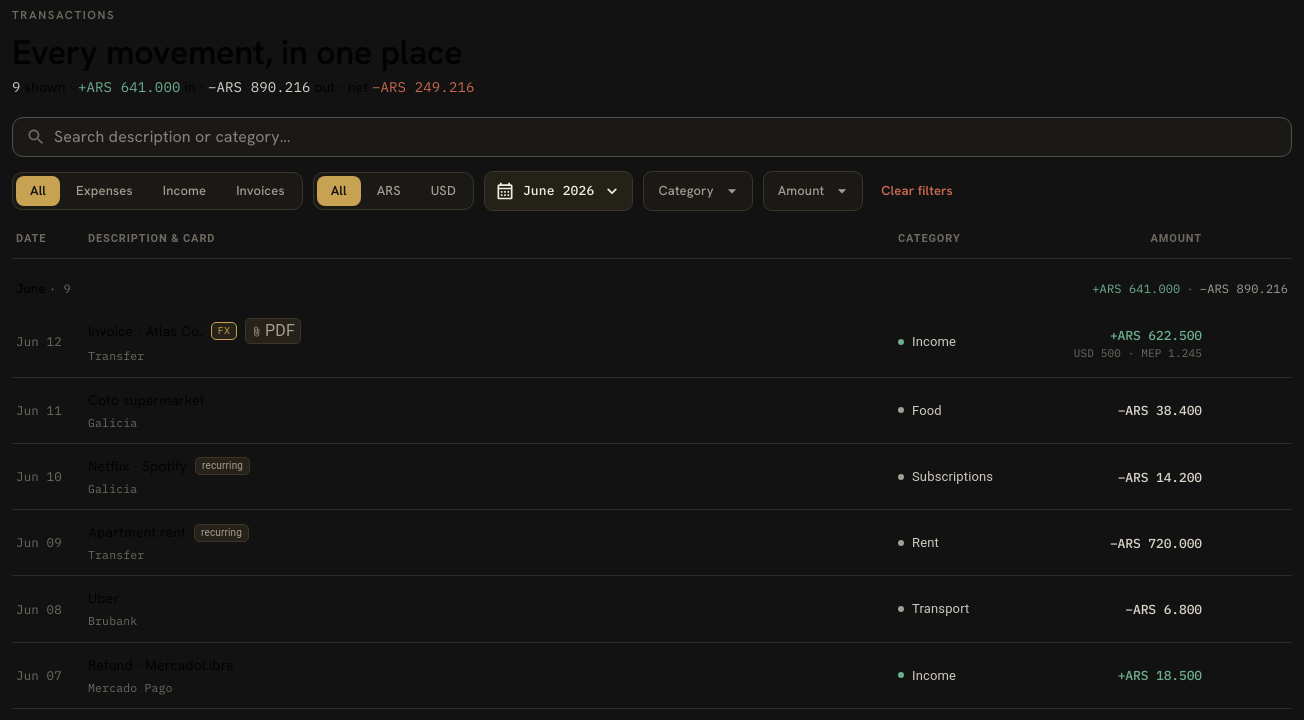
Scenario: TransactionsPage filtering › a search with no matches shows the empty state and clears the rows
The width and height of the screenshot is (1304, 720).
Type "zzzznomatch" into the search field at (673, 137), box [54,117,1292,157]
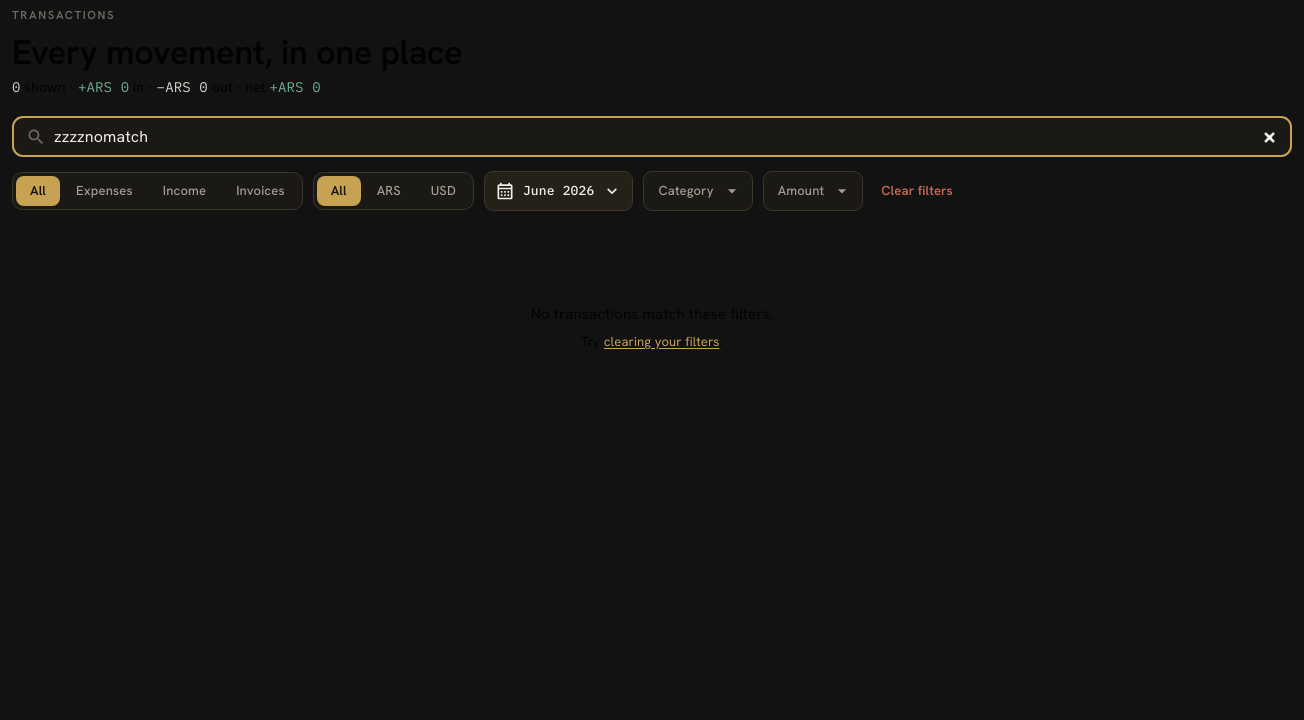
Expected: the text "Coto supermarket" is not shown
Result: the button "clearing your filters" is shown at [604,332,719,351]
